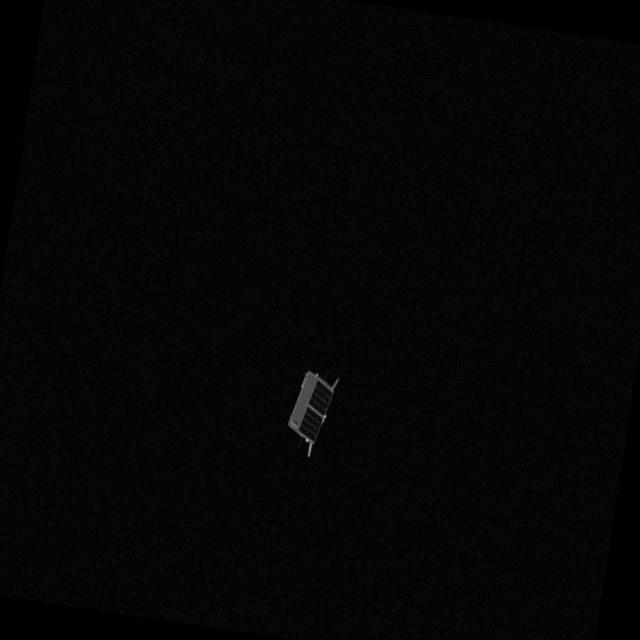satellite: (274, 350, 349, 463)
